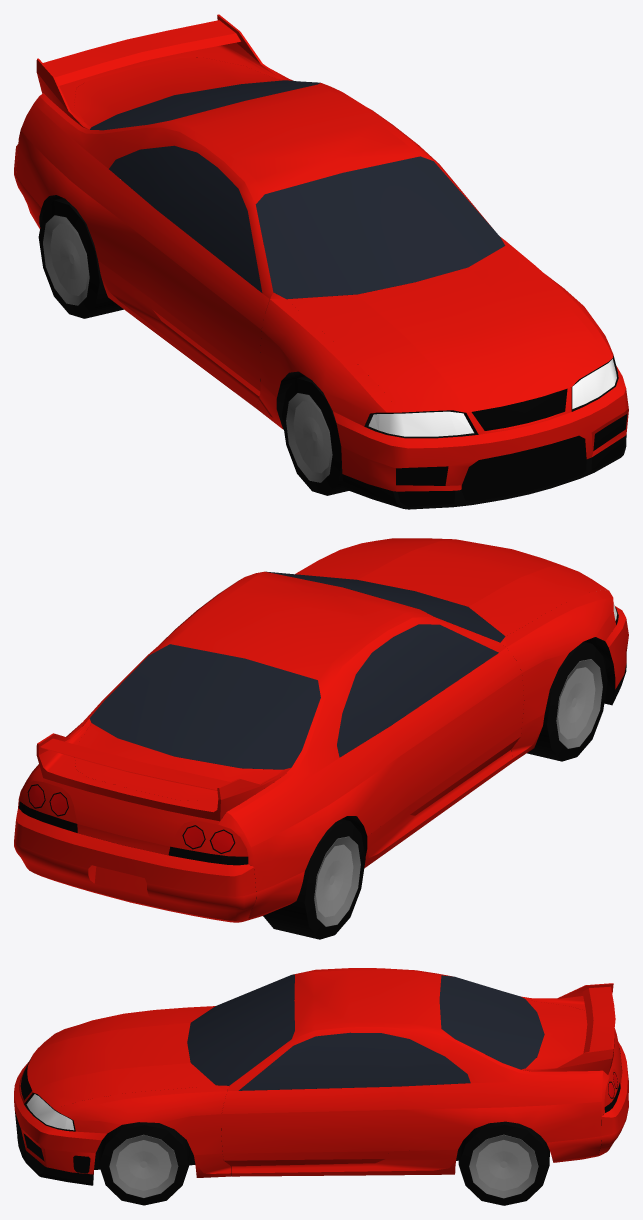
The model's file is car_gtr.glb.
3 views of the same model, one above another, from view 1: azimuth 30°, elevation 25°; view 2: azimuth 150°, elevation 25°; view 3: azimuth 270°, elevation 25° (orthographic). The views are drawn at different scales.
Parts seen in each view (by area): view 1: paint, glass, black_2, lamp_f, tire_BL, tire_FL, rim_BL_2, rim_FL_2, rim_BL, rim_FL; view 2: paint, glass, tire_BL, black_2, tire_FL, rim_BL_2, rim_FL_2, lamp_r, rim_BL, rim_FL; view 3: paint, glass, tire_FR, tire_BR, black_2, rim_BR_2, rim_FR_2, rim_BR, rim_FR, lamp_f.
Part boxes in pixels (x1,y1,x2,y2): paint: (14,14,628,491); glass: (90,80,505,299); black_2: (39,195,627,509); lamp_f: (368,359,616,436); tire_BL: (38,198,123,318); tire_FL: (281,376,348,495); rim_BL_2: (50,223,87,295); rim_FL_2: (293,401,330,473); rim_BL: (43,215,89,305); rim_FL: (286,393,332,482); paint: (14,538,628,922); glass: (89,571,505,769); tire_BL: (263,819,365,939); black_2: (19,607,626,898); tire_FL: (527,641,607,761); rim_BL_2: (315,844,353,917); rim_FL_2: (558,667,595,739); lamp_r: (28,785,233,852); rim_BL: (314,836,360,926); rim_FL: (556,659,602,748); paint: (14,968,628,1177); glass: (187,974,544,1090); tire_FR: (98,1122,189,1205); tire_BR: (458,1121,549,1205); black_2: (15,1048,620,1185); rim_BR_2: (476,1140,531,1190); rim_FR_2: (116,1140,171,1190); rim_BR: (469,1134,538,1198); rim_FR: (109,1134,178,1198); lamp_f: (26,1094,74,1130).
Size of the model in its own units: 1.78 by 1.37 by 4.66.
